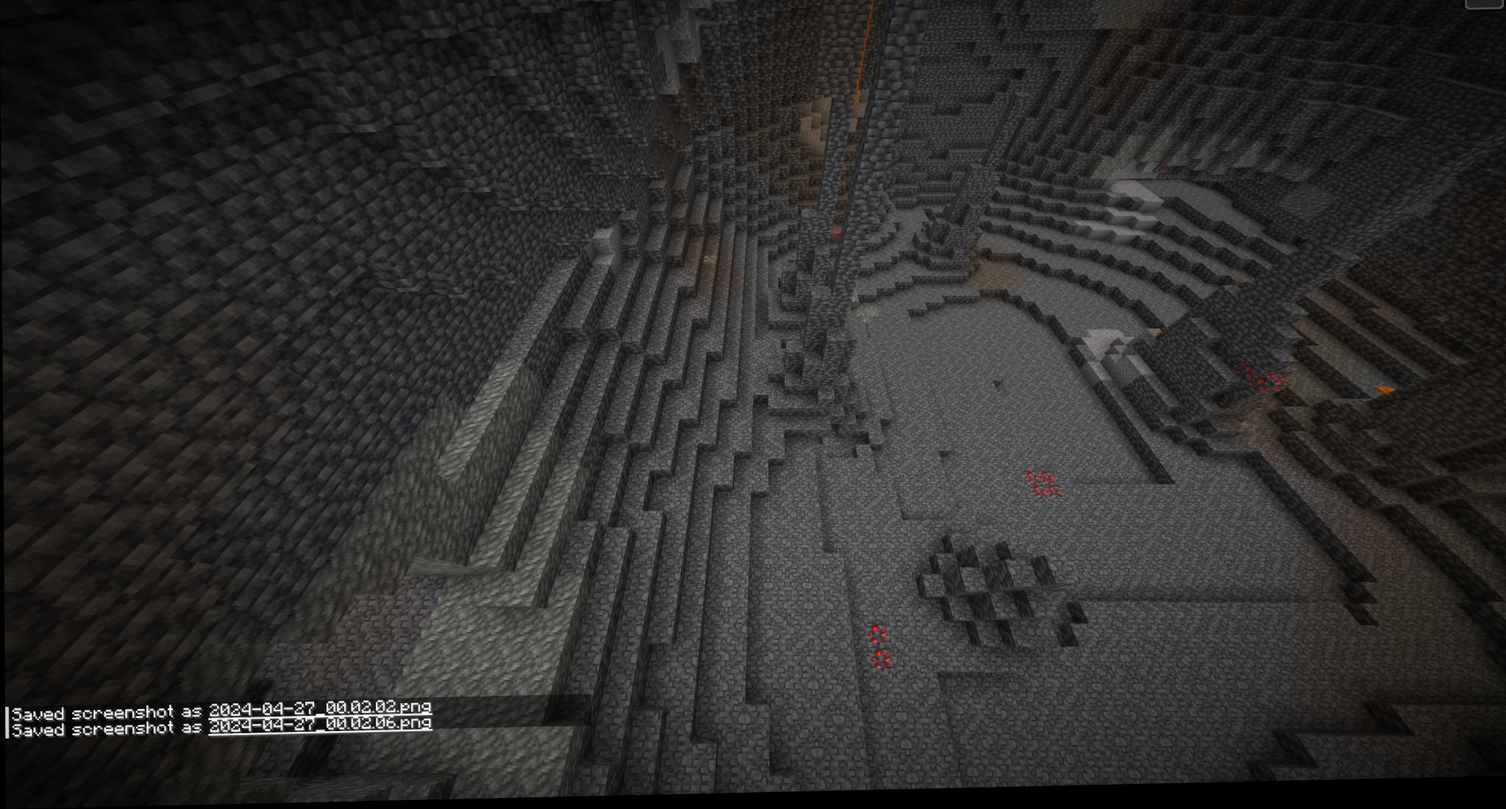redstone ore: (1240, 366, 1282, 400), (1027, 473, 1059, 503), (866, 624, 890, 655), (873, 650, 893, 678)
